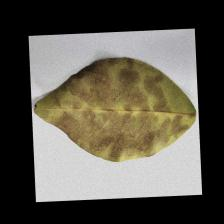black spot: (64, 75, 169, 147)
